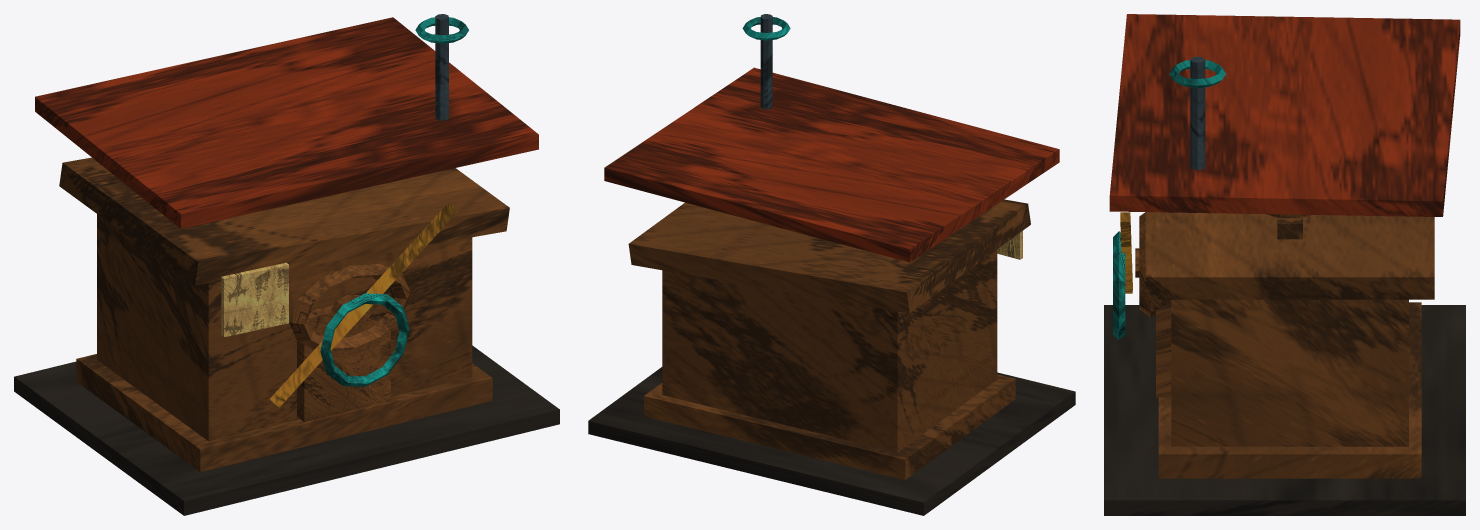
The model's file is ridge-switch-house.glb.
3 views of the same model, side by side, from view 1: azimuth 30°, elevation 25°; view 2: azimuth 150°, elevation 25°; view 3: azimuth 270°, elevation 25° (orthographic). The views are drawn at different scales.
Visible parts, largest first — view 1: ridge-switch-house; view 2: ridge-switch-house; view 3: ridge-switch-house.
Boxes of the visible parts, left/top/right/bottom form: ridge-switch-house: left=14, top=14, right=559, bottom=515; ridge-switch-house: left=588, top=14, right=1075, bottom=515; ridge-switch-house: left=1104, top=14, right=1465, bottom=515.
Size of the model in its own units: 7.4 by 7.4 by 5.8.
Materials: 1 (1 with a texture image).
